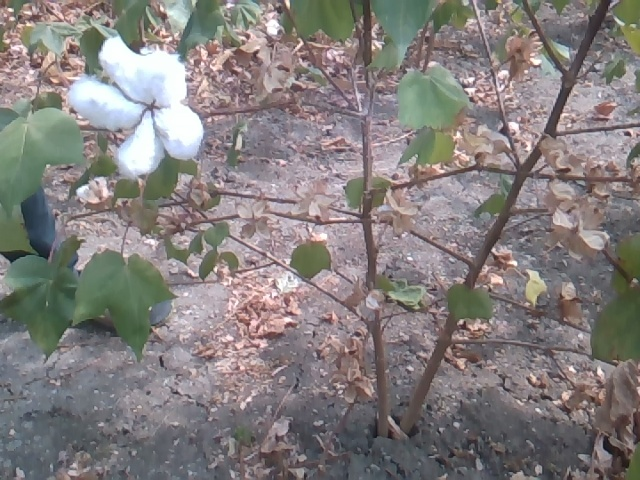cotton: (69, 38, 200, 175)
